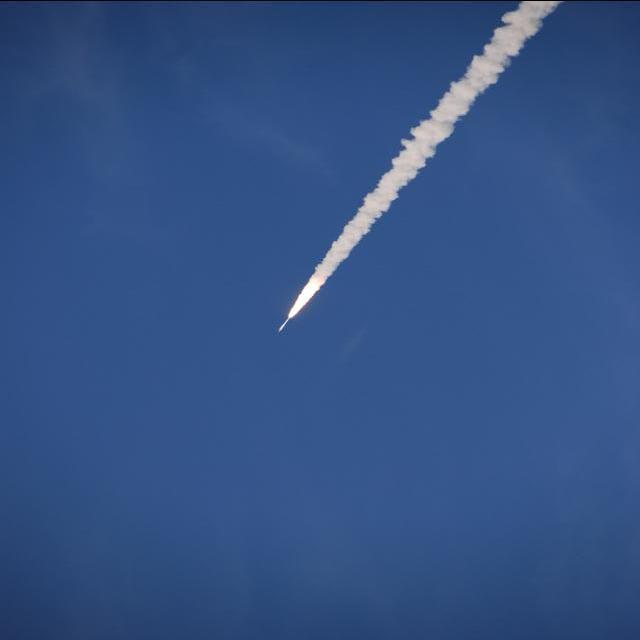missile: (278, 311, 298, 338)
